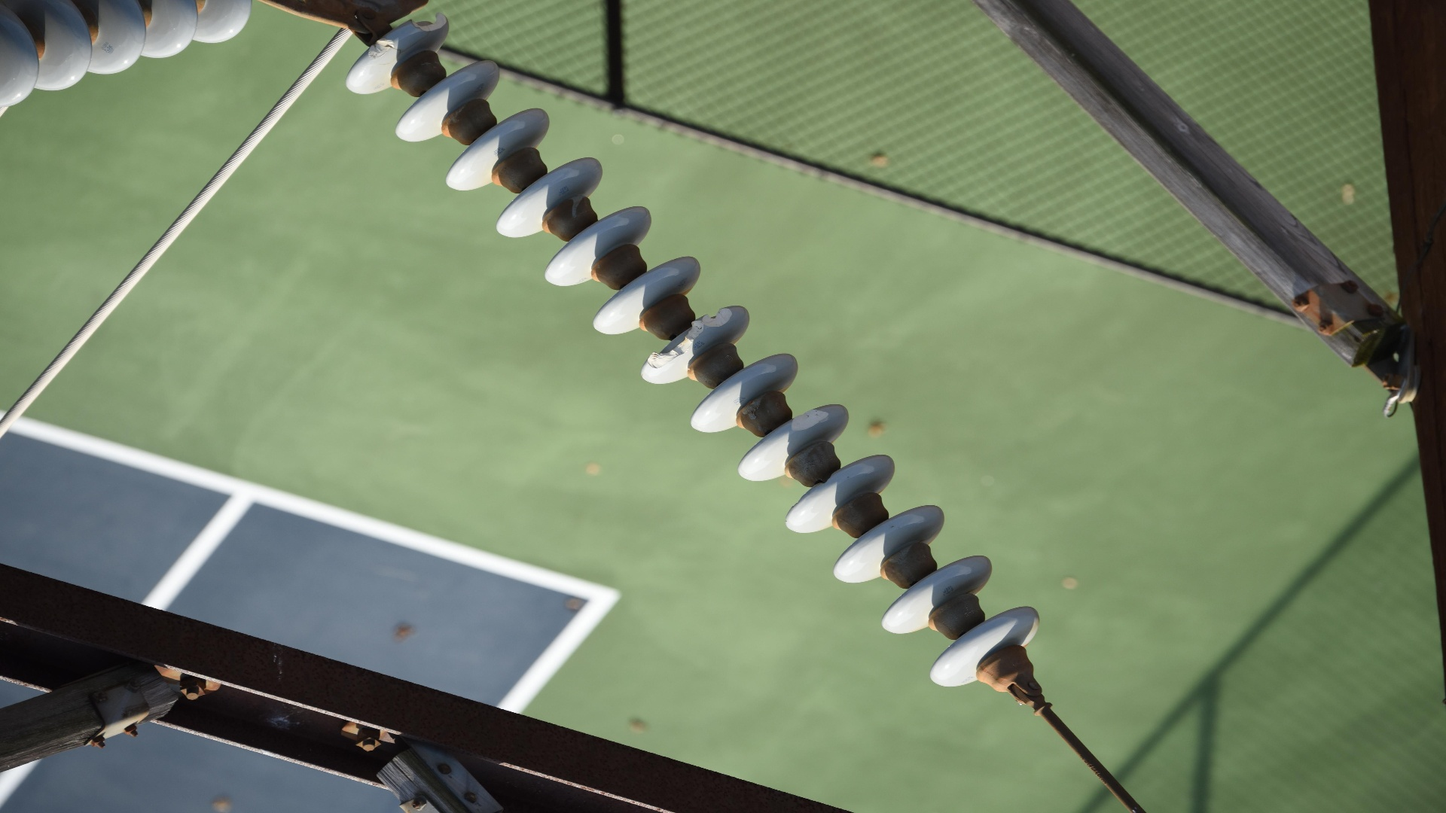insulator: (337, 8, 1047, 696), (1, 1, 260, 129)
insulator_breakage: (644, 304, 734, 370), (407, 8, 451, 37)
